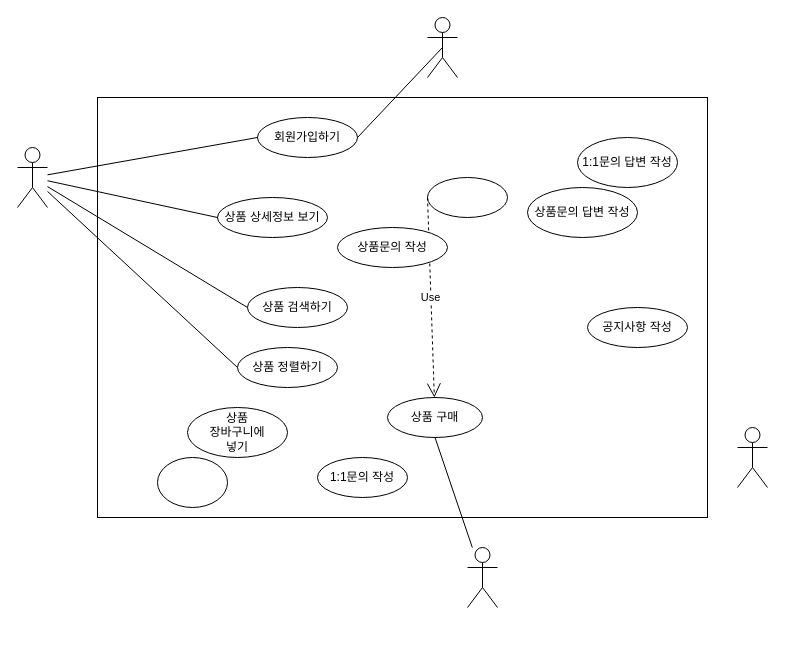
The diagram is 786 pixels wide and 646 high, and some of its shapes have lost their labels. The shapes that lost their labels are listed below. From the top down, each one's box as (x1, y1, x2, y2) in pixels, then its label:
(426, 16, 458, 78): 본인인증API
(16, 146, 48, 208): 고객
(426, 176, 508, 218): 로그인
(736, 426, 768, 488): 관리자
(156, 456, 228, 508): 리뷰 작성
(466, 546, 498, 608): 결제API
